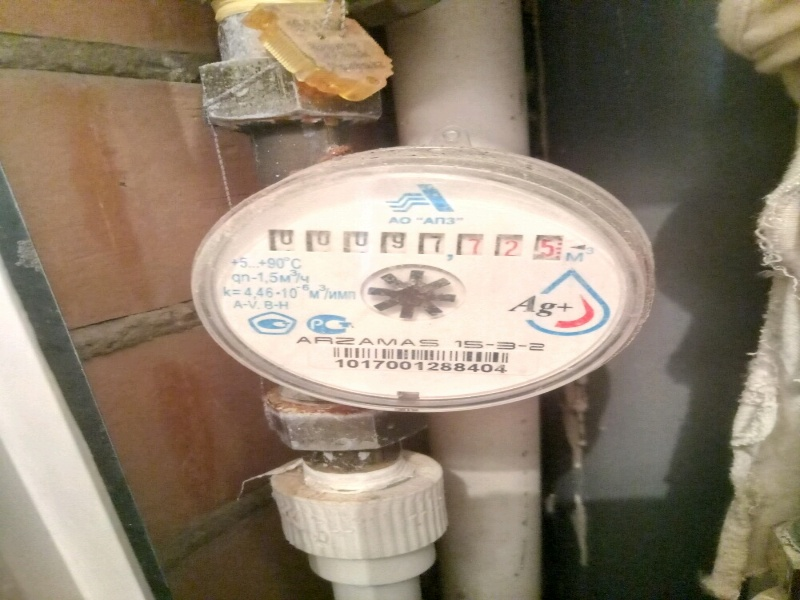dial: (263, 221, 560, 260)
